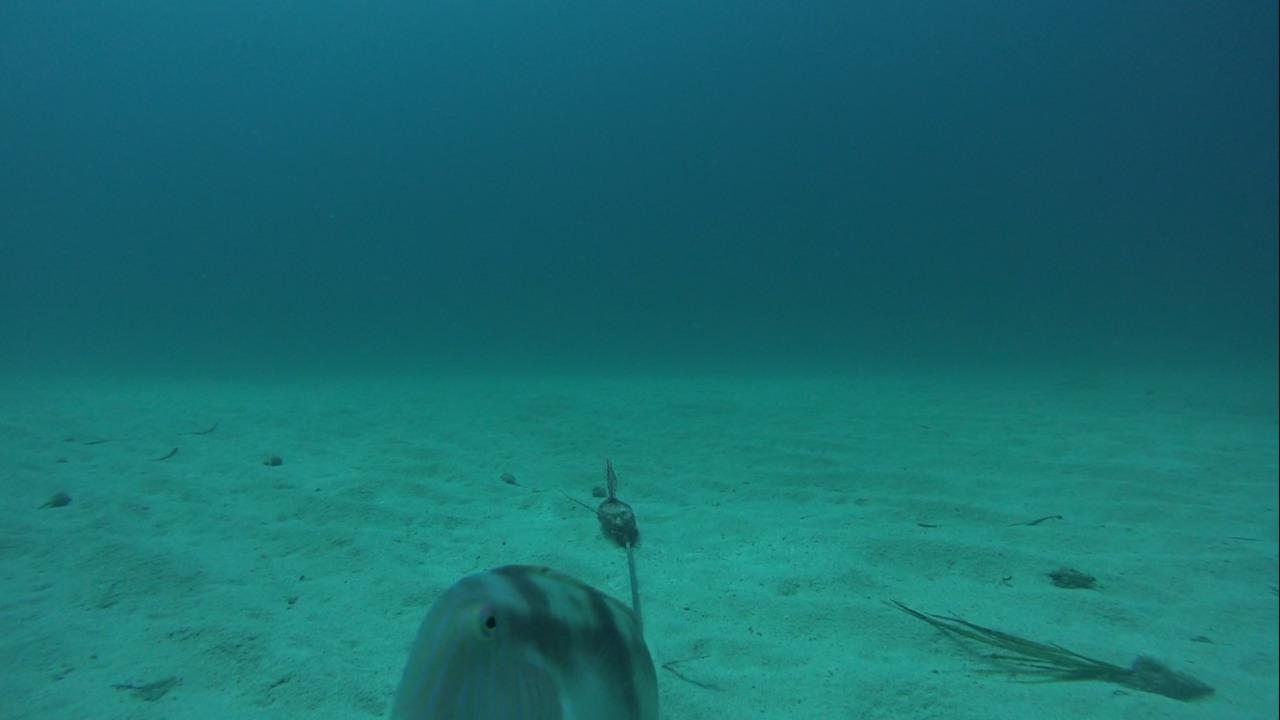raor: (384, 558, 658, 719)
